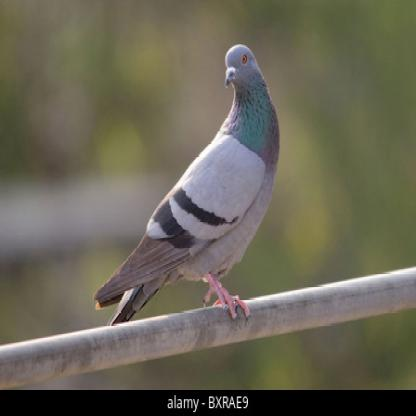Flying Rat: (79, 47, 296, 333)
